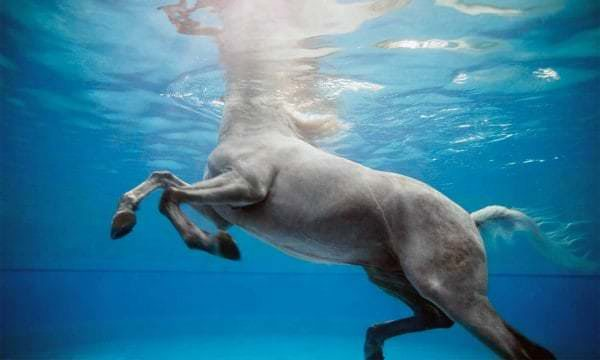Horse: (130, 10, 532, 346)
